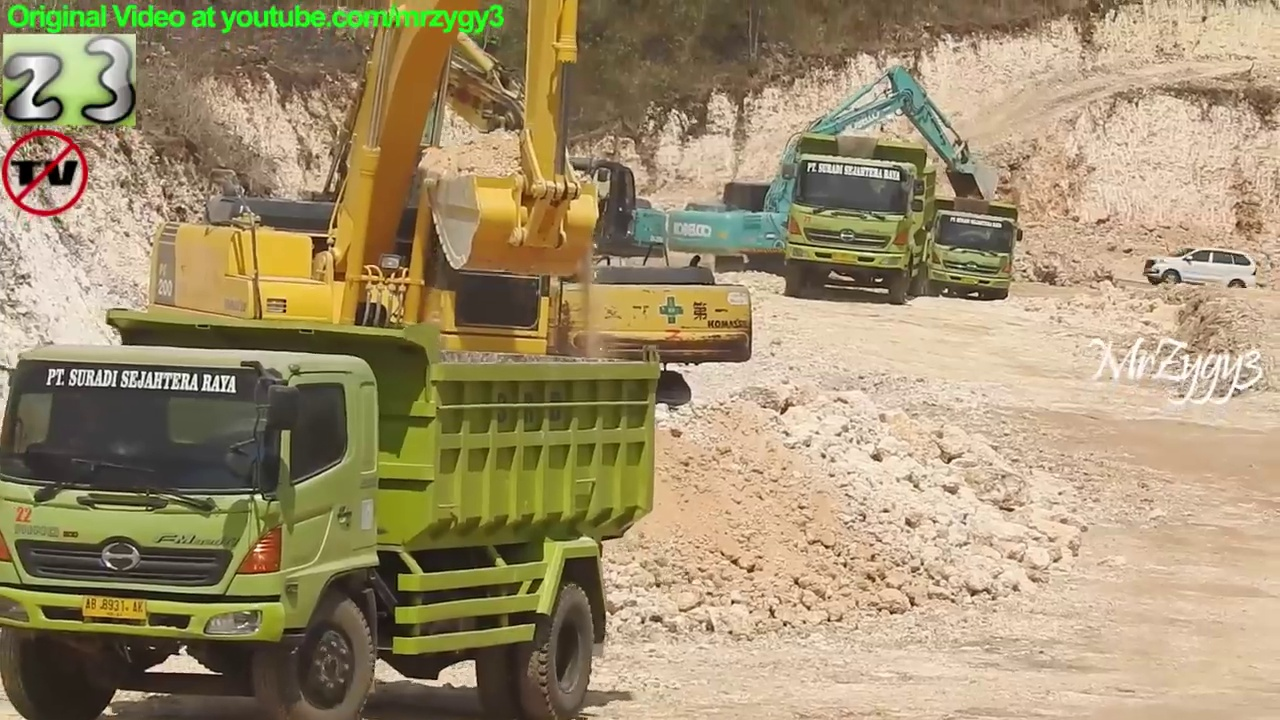excavator: (101, 1, 629, 489), (229, 1, 761, 427), (375, 2, 682, 288), (667, 59, 1006, 276)
truck: (2, 302, 672, 720), (777, 127, 944, 310), (906, 192, 1029, 305)
